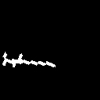double_crochet: (3, 53, 54, 66)
